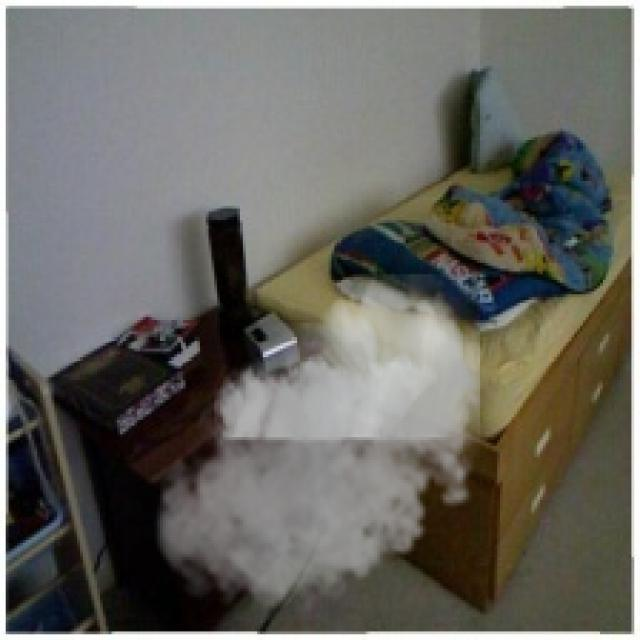Smoke: (148, 274, 494, 623)
